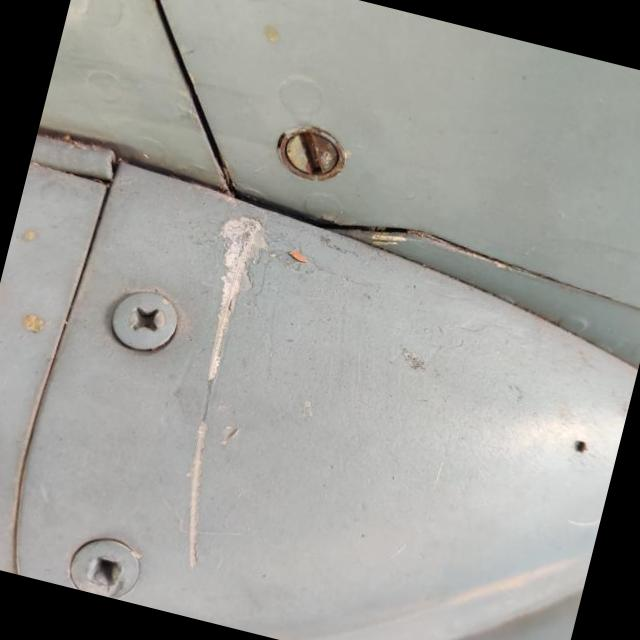Scratch: (185, 216, 265, 570)
